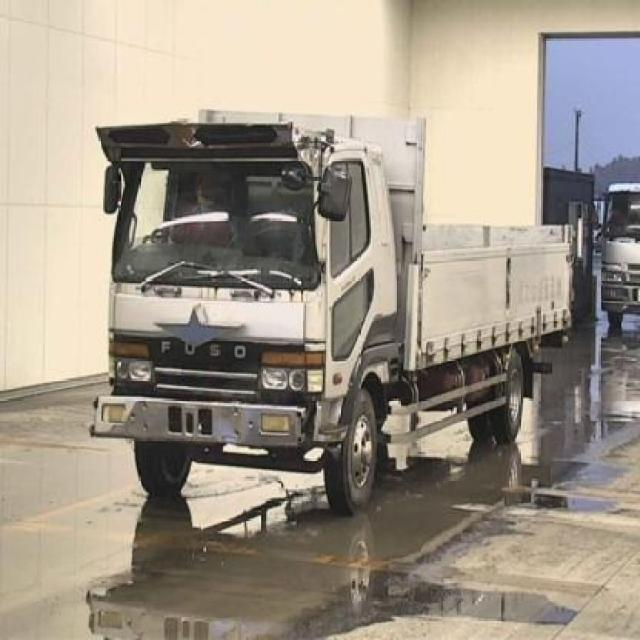truck: (95, 106, 579, 514)
